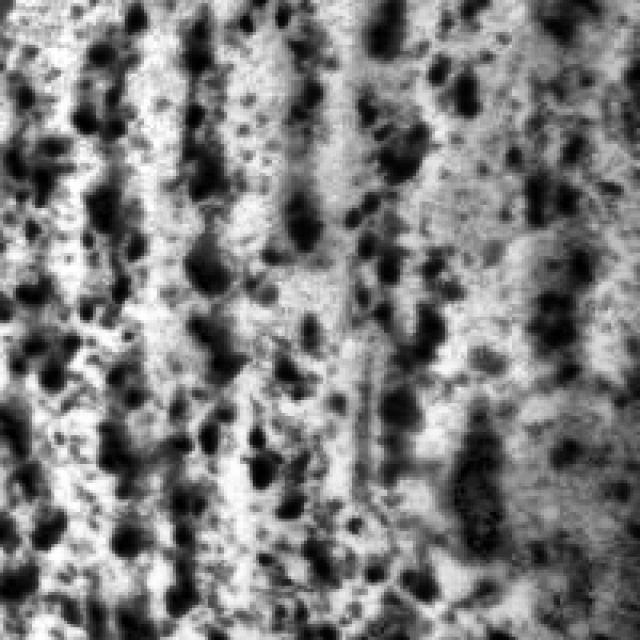Rolled_in_Scale: (0, 3, 598, 611)
